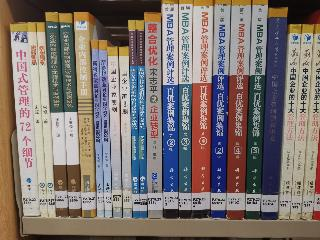book-spine: (258, 7, 289, 222), (9, 21, 41, 218), (225, 0, 252, 219), (243, 0, 269, 220), (44, 12, 69, 219), (276, 23, 302, 220), (191, 1, 214, 220), (209, 1, 232, 219), (58, 11, 82, 218), (73, 11, 96, 218), (290, 24, 314, 221), (160, 1, 180, 219), (27, 22, 48, 219), (35, 22, 56, 218), (144, 11, 163, 217), (177, 0, 193, 220), (302, 25, 320, 220), (106, 46, 124, 219), (90, 39, 105, 219), (98, 40, 113, 218), (128, 20, 141, 218), (119, 47, 132, 218), (136, 20, 147, 219)
